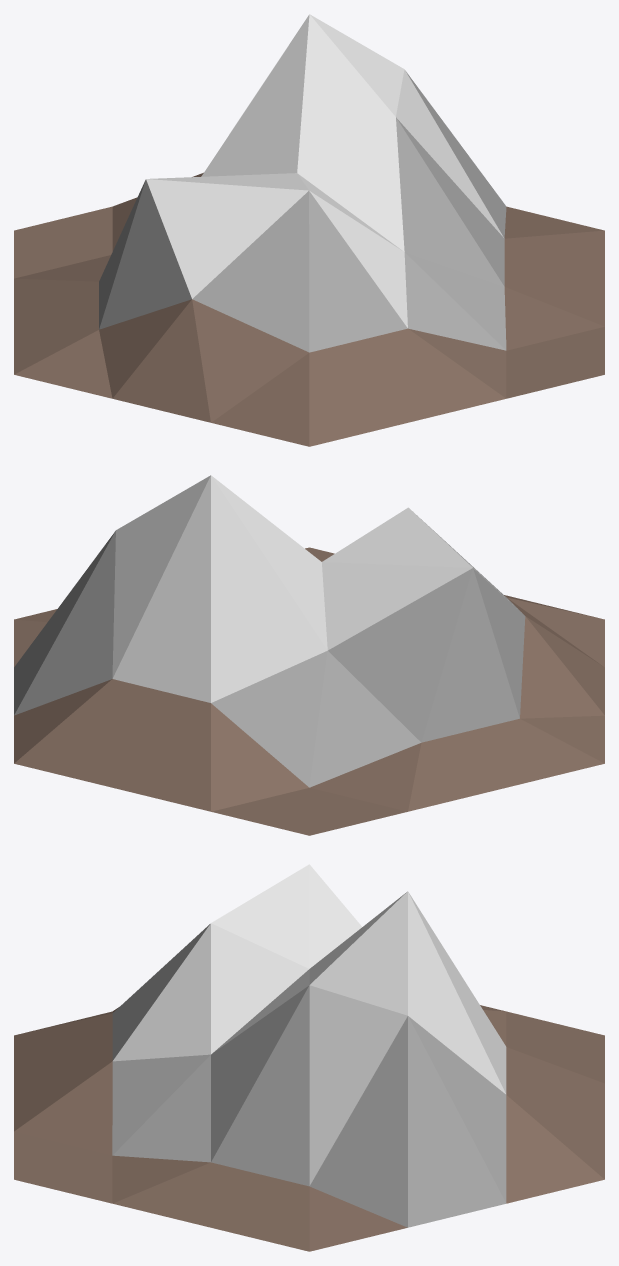
The model's file is FbxHexagonSnowMountain.fbx.
3 renders of one model, top to bottom at view 1: azimuth 30°, elevation 25°; view 2: azimuth 150°, elevation 25°; view 3: azimuth 270°, elevation 25°, orthographic.
Visible parts, largest first — view 1: Hexagon; view 2: Hexagon; view 3: Hexagon.
Part boxes in pixels (<box>): Hexagon: <box>14,14,604,446</box>; Hexagon: <box>14,475,604,835</box>; Hexagon: <box>14,864,604,1251</box>.
Bounding box in the file's own units: 2 × 0.7777 × 1.73.
